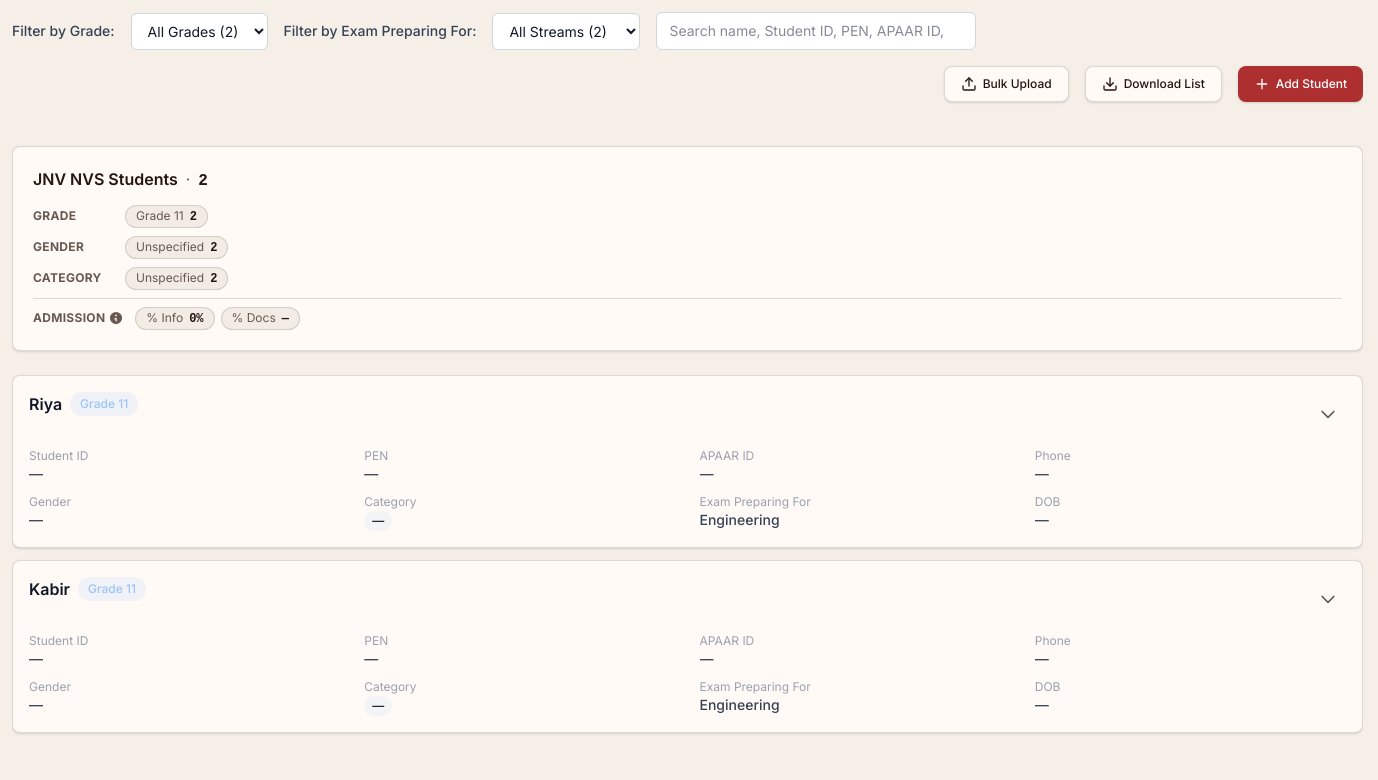
EnrollmentTabContent › keeps the action buttons in one group, in one order, while searching
Expected: the element with test id "enrollment-filtered-count" is empty, 12,110 -> 1363,130
Step 1. Type "riya" into the search field named "Search students" → (816, 31), box 656,12 -> 976,50
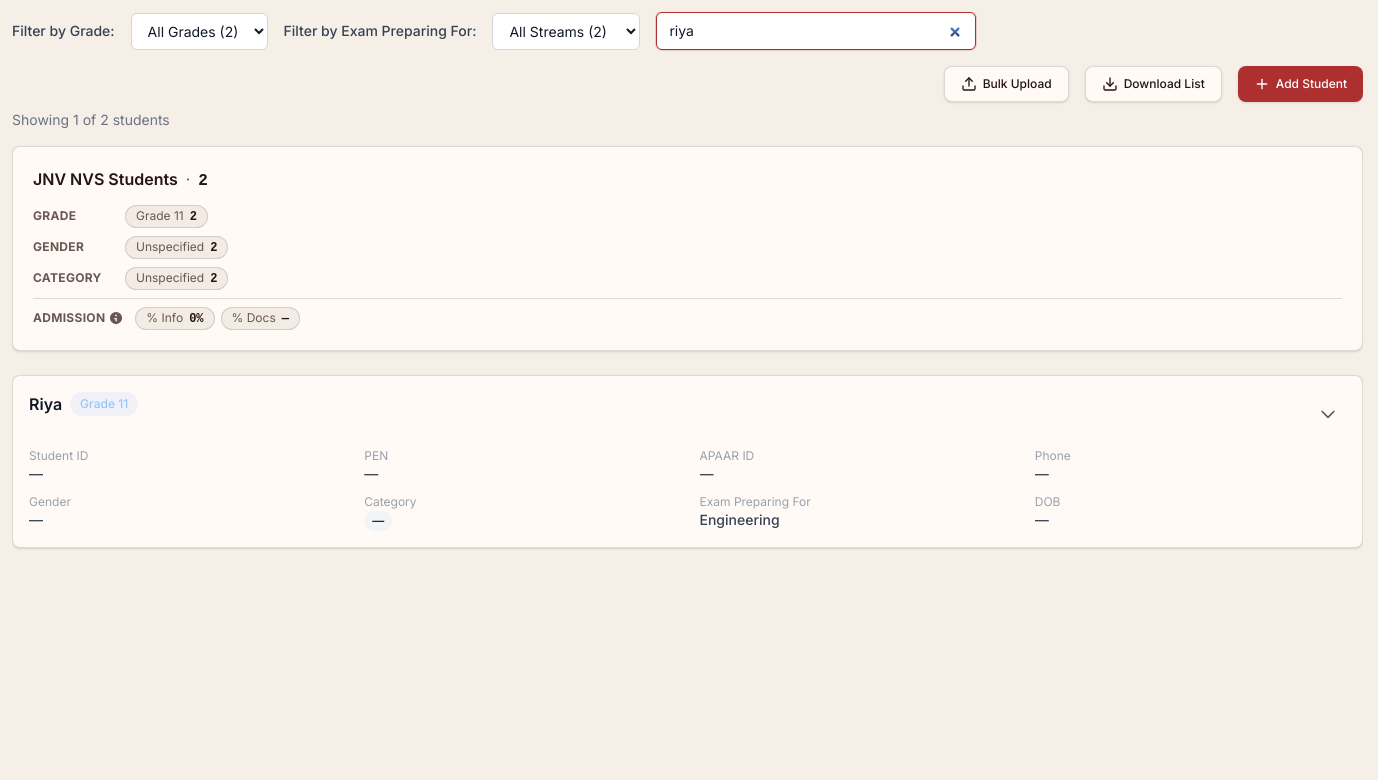
Expected: the text with test id "enrollment-filtered-count" reads "Showing 1 of 2 students", 12,111 -> 170,128
Step 2. Clear the search field named "Search students" → (816, 31), box 656,12 -> 976,50
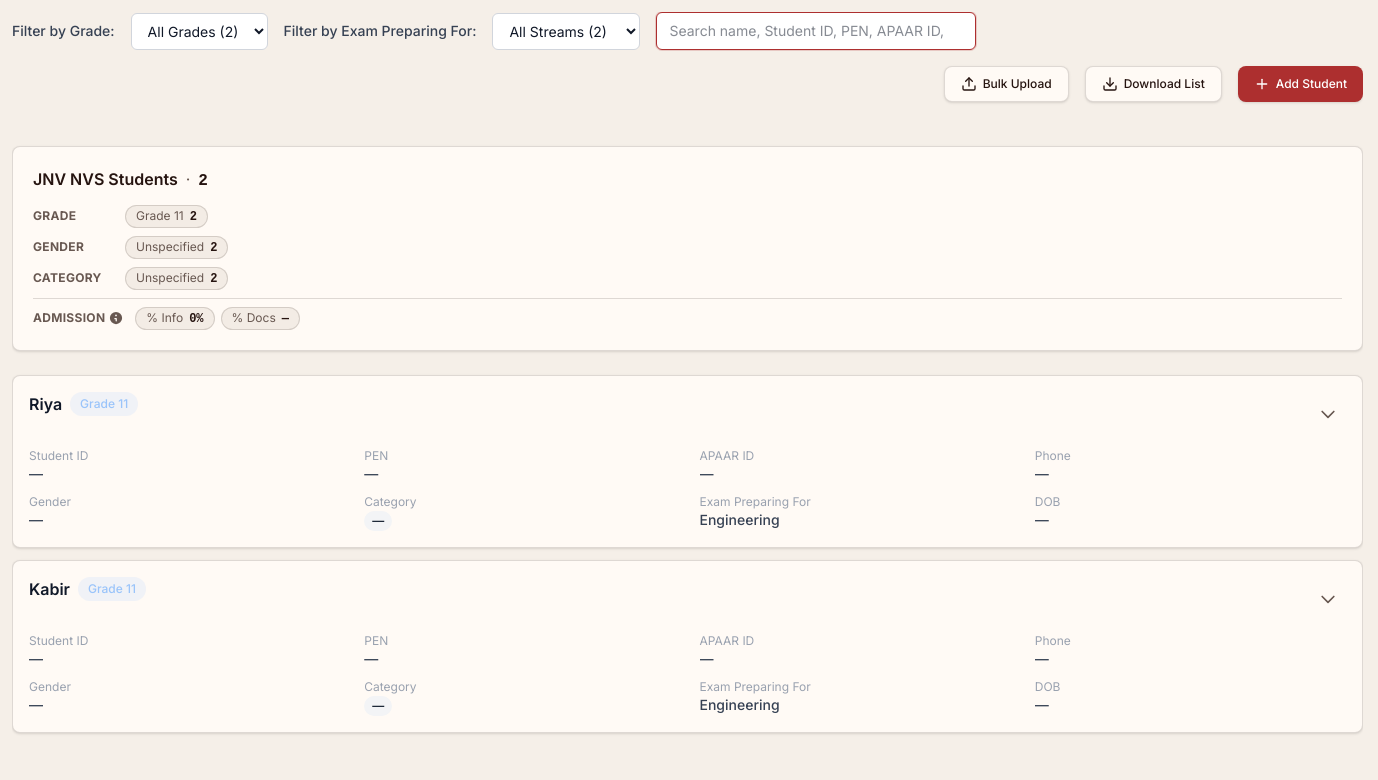
Expected: the element with test id "enrollment-filtered-count" is empty, 12,110 -> 1363,130
Expected: the text "Showing 1 of 2 students" is gone
